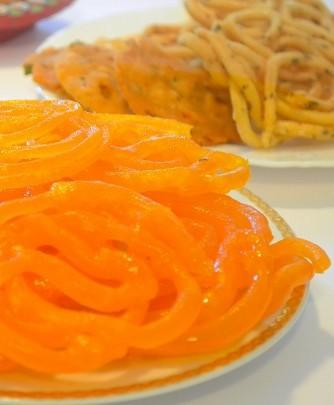Jalebi: (0, 97, 334, 383)
